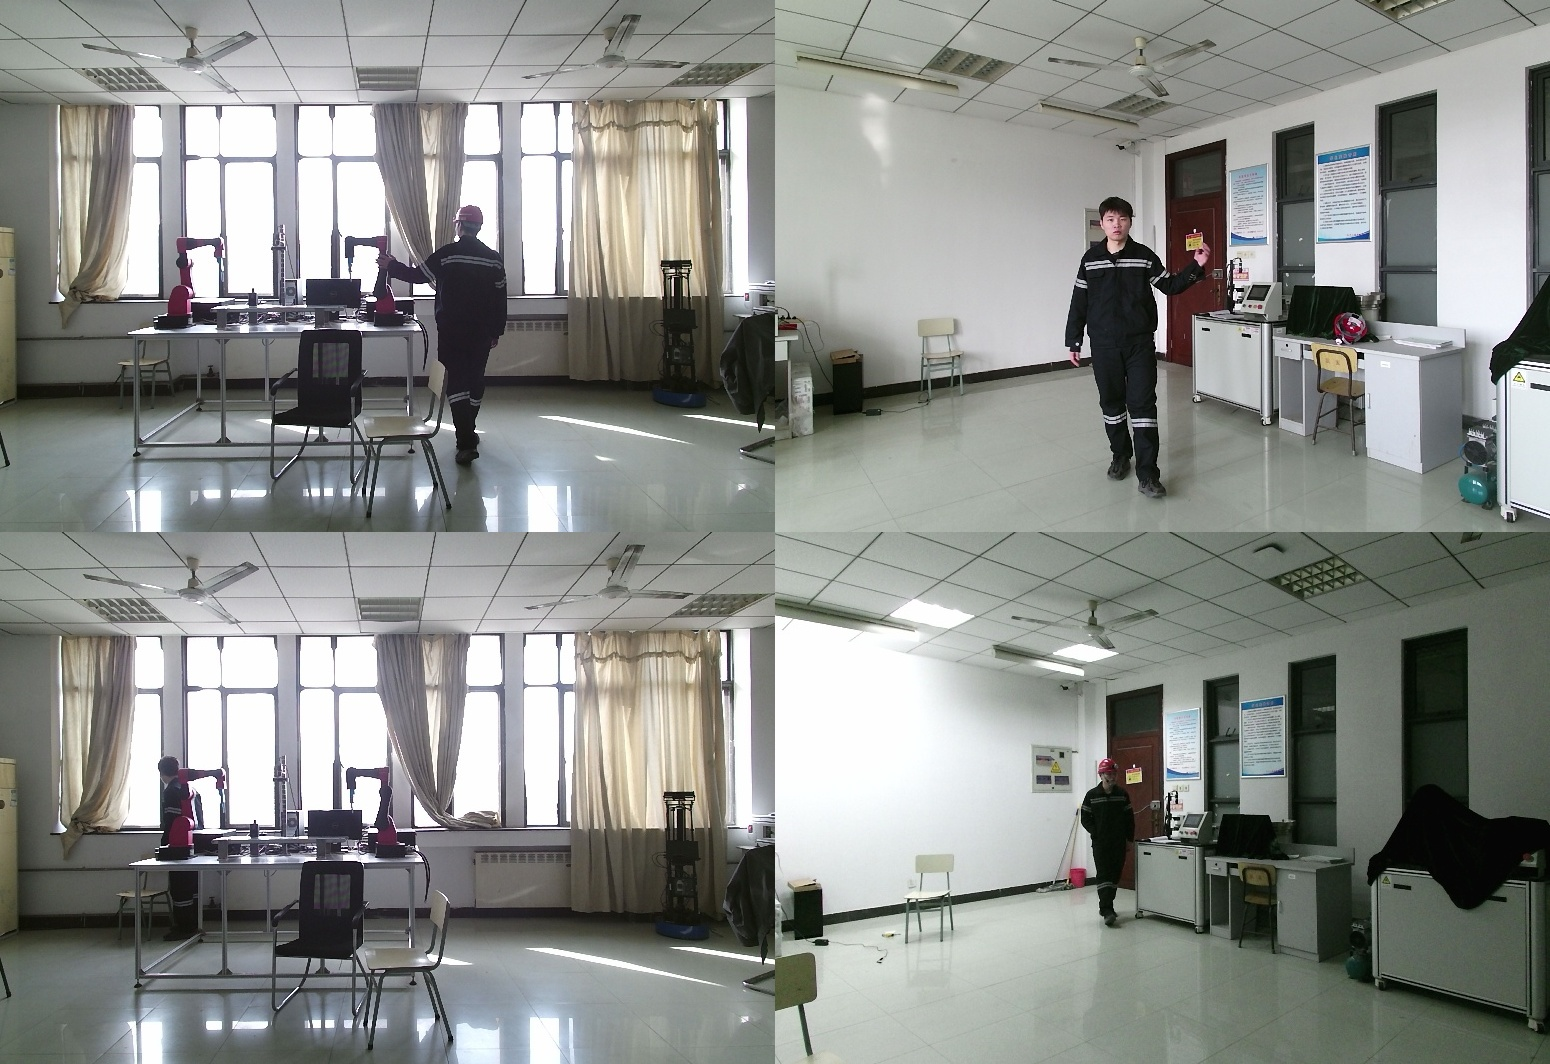person: (1047, 197, 1231, 492), (379, 204, 520, 471), (1078, 759, 1139, 929), (155, 754, 208, 946)
